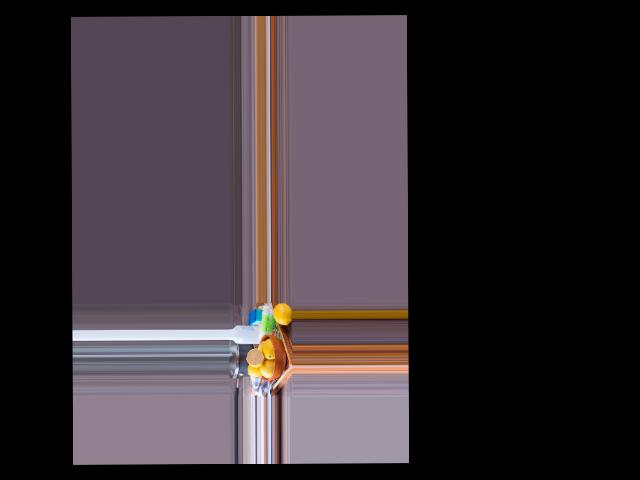lemon: (273, 303, 292, 326)
